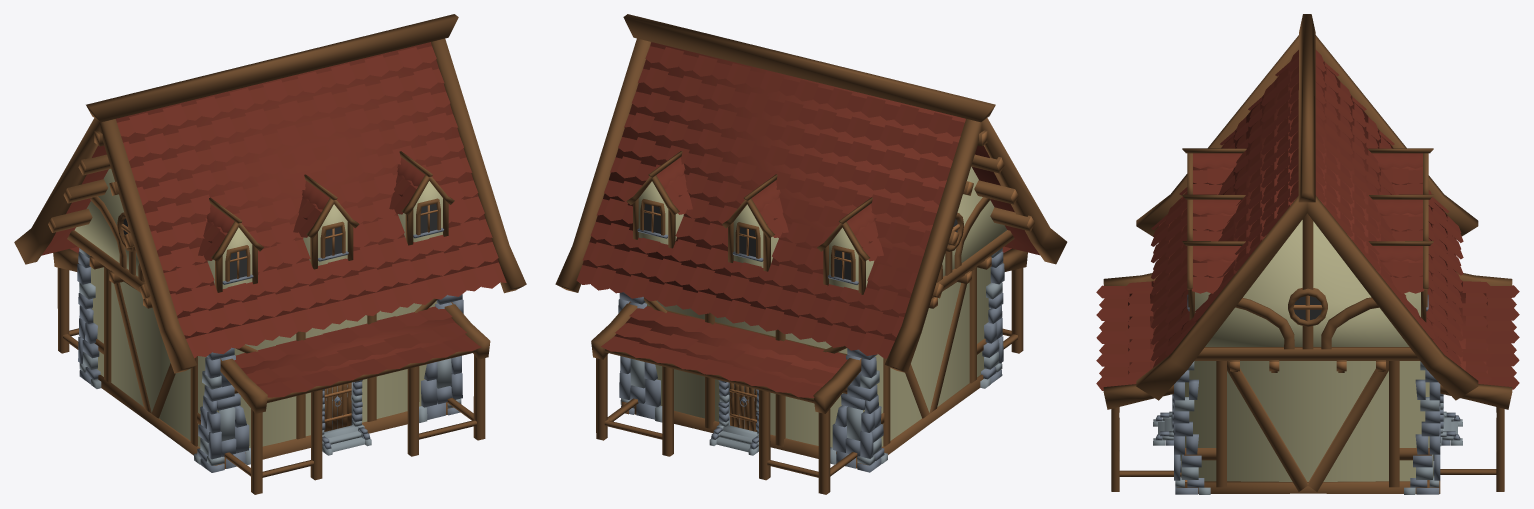
The model's file is inn.012_lev2.glb.
The picture shows the model from 3 angles, left to right: view 1: azimuth 30°, elevation 25°; view 2: azimuth 150°, elevation 25°; view 3: azimuth 270°, elevation 25°; orthographic projection.
Visible parts, largest first — view 1: inn.012_lev2; view 2: inn.012_lev2; view 3: inn.012_lev2.
Boxes of the visible parts, x1,y1,x2,y2 form: inn.012_lev2: (14,14,526,494); inn.012_lev2: (555,14,1067,494); inn.012_lev2: (1096,14,1519,494).
Bounding box in the file's own units: 8.06 × 6.98 × 8.04.
